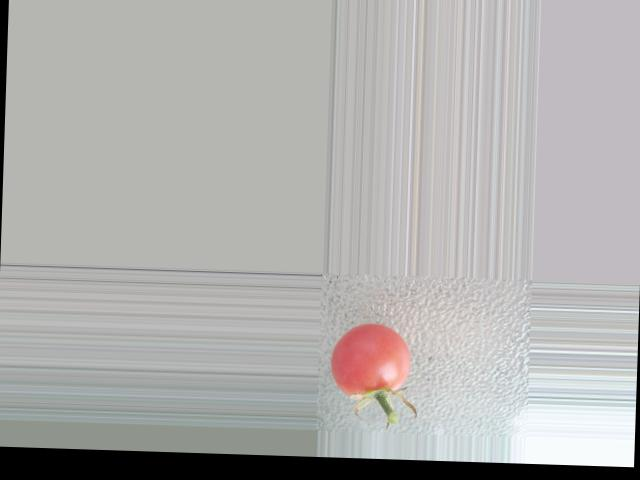tomato: (331, 321, 413, 397)
